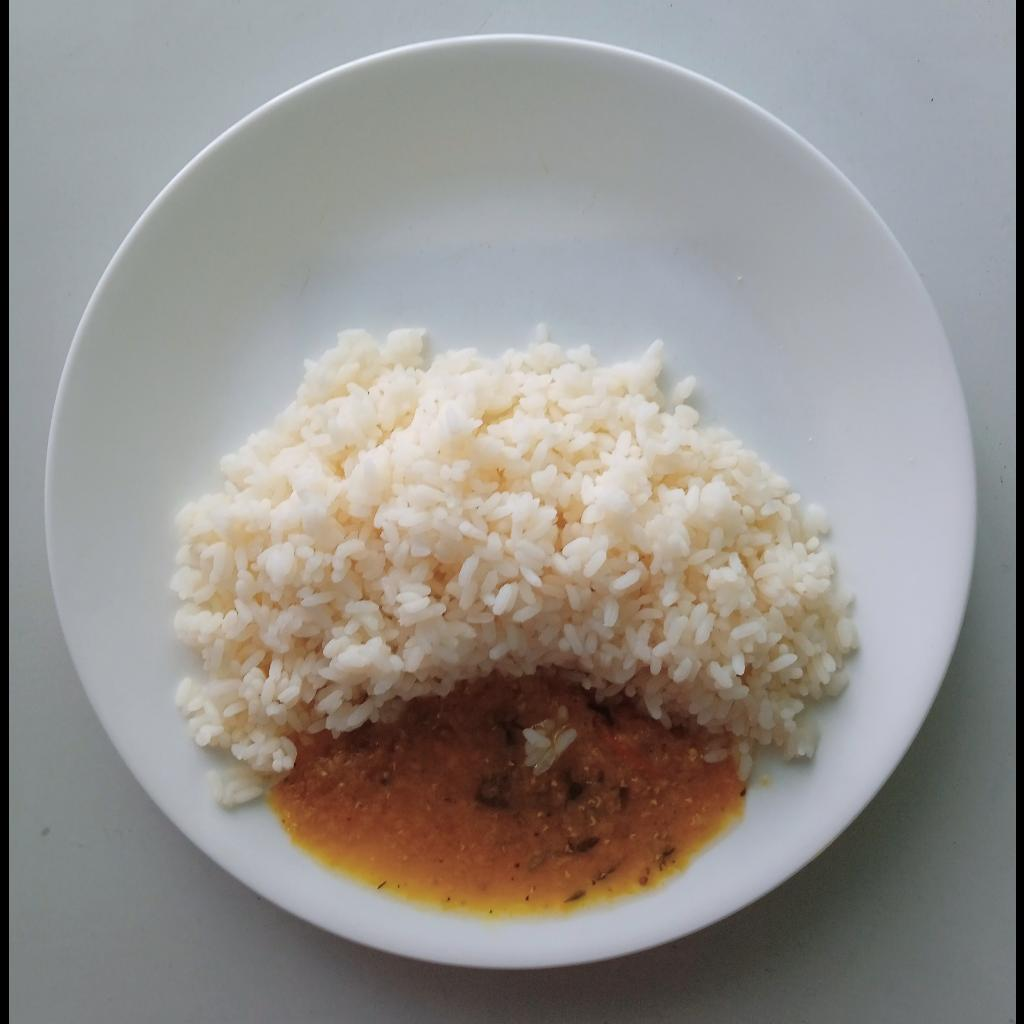daal: (262, 678, 747, 919)
rice: (170, 325, 859, 808)
